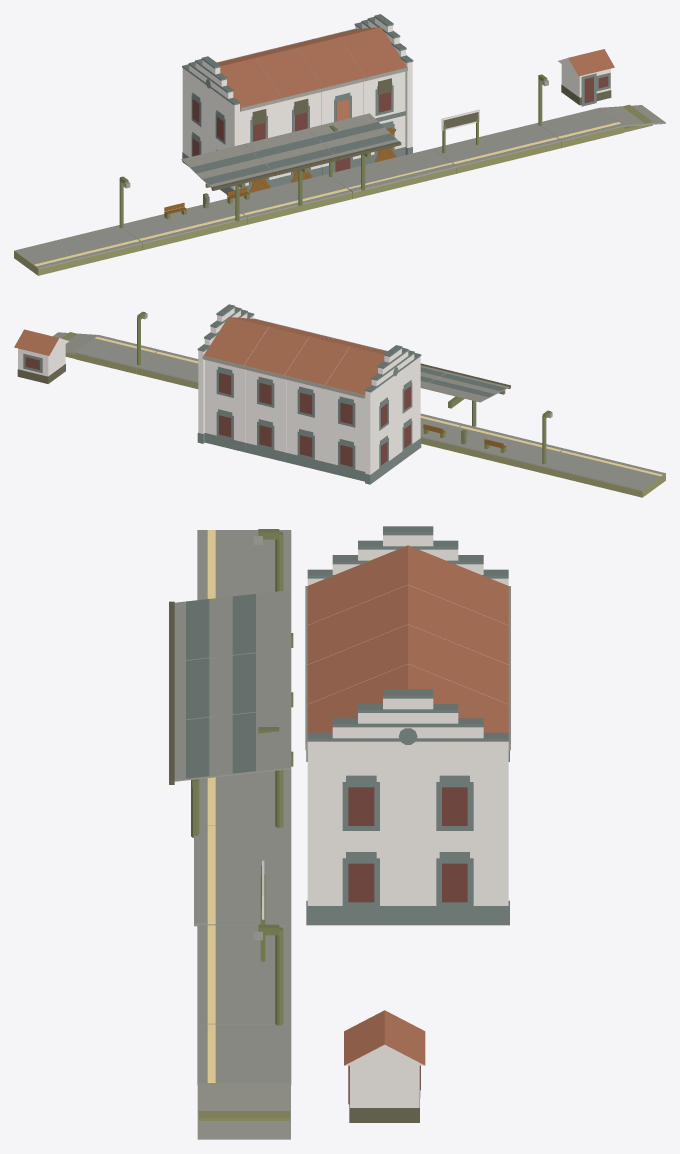
The model's file is SM_EstacionNules_v0_LOD1.fbx.
The picture shows the model from 3 angles, top to bottom: view 1: azimuth 30°, elevation 25°; view 2: azimuth 150°, elevation 25°; view 3: azimuth 270°, elevation 25°; orthographic projection. The views are drawn at different scales.
Parts seen in each view (by area): view 1: SM_bloques.estacion_nules_v0_LOD1; view 2: SM_bloques.estacion_nules_v0_LOD1; view 3: SM_bloques.estacion_nules_v0_LOD1.
Boxes of the visible parts, box(x1,y1,x2,y2) form: SM_bloques.estacion_nules_v0_LOD1: box(14, 14, 665, 275); SM_bloques.estacion_nules_v0_LOD1: box(14, 304, 665, 497); SM_bloques.estacion_nules_v0_LOD1: box(169, 526, 510, 1139).
Bounding box in the file's own units: 59.99 × 11 × 14.62.
